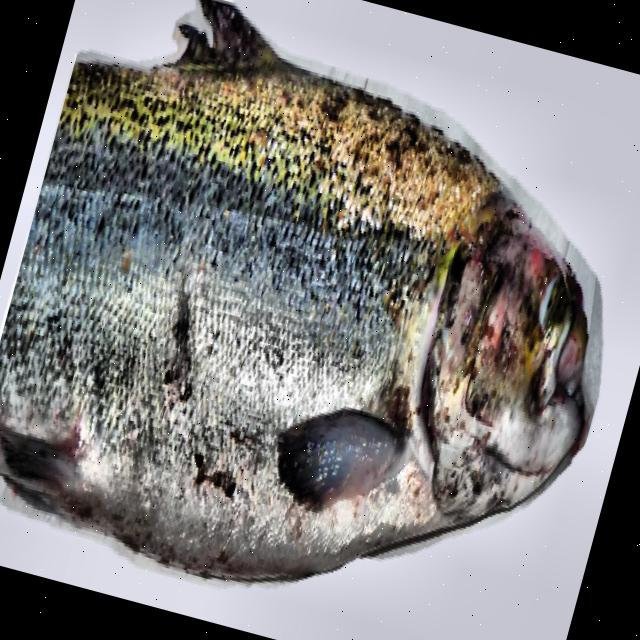mild_red: (0, 17, 497, 576)
